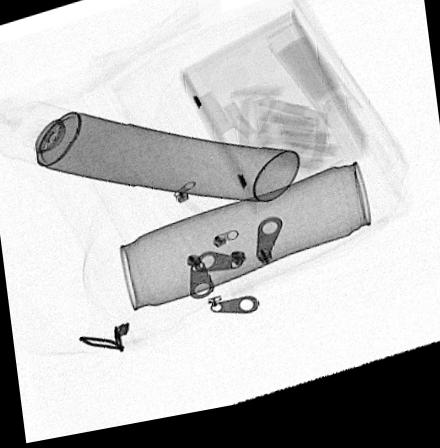Sprayer: (0, 101, 301, 214)
